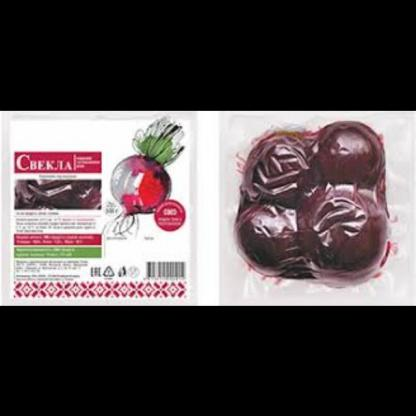beet: (237, 114, 399, 287)
